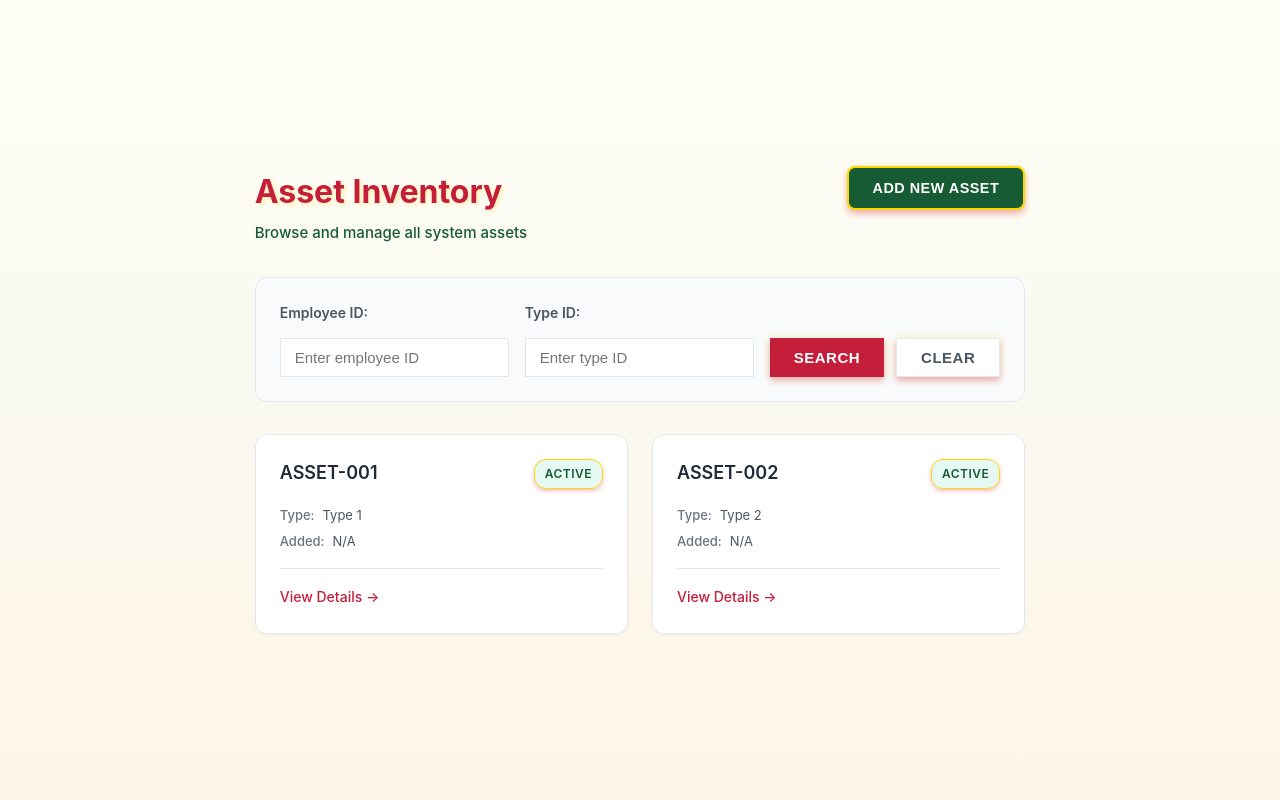
Test: AssetListView.vue › filters assets by type ID
In the field with id "typeIdFilter": (639, 358) [525,338,754,377], type "2"
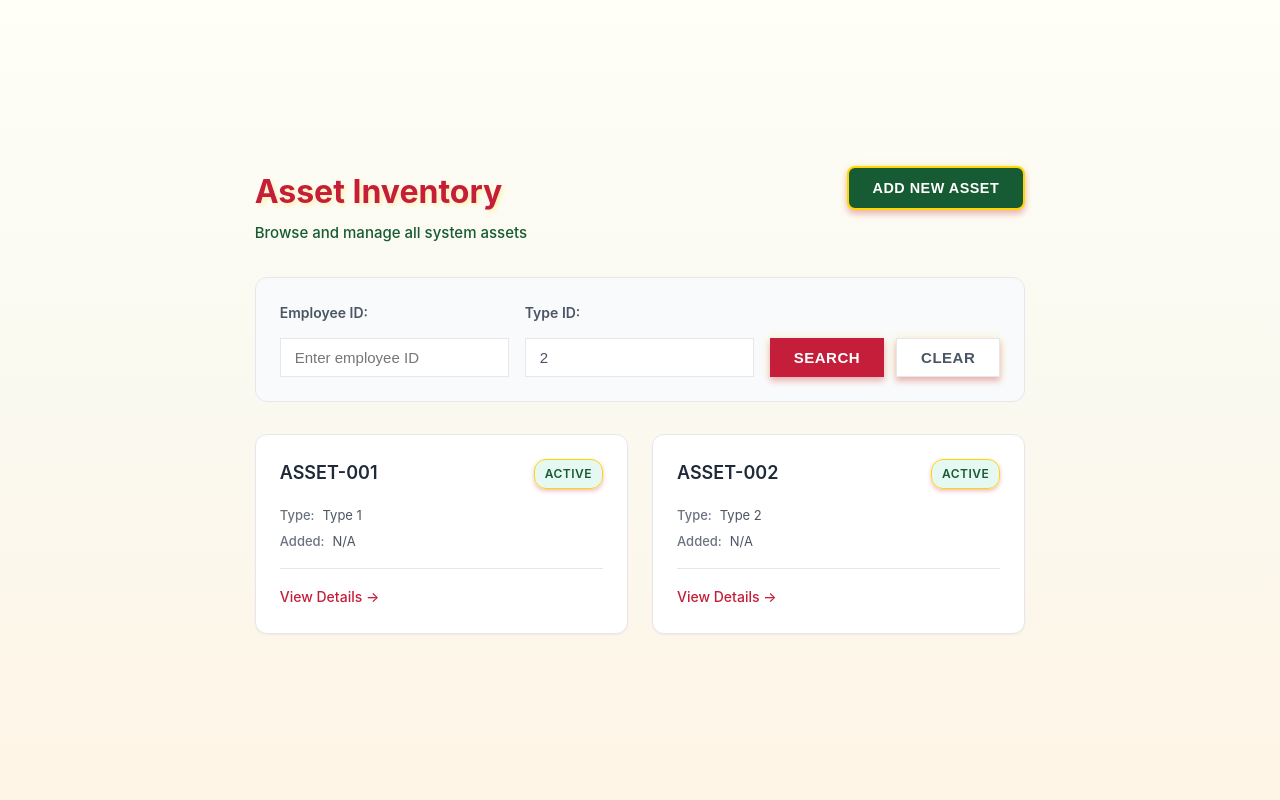
Click the button with class "btn-filter": (827, 358) [770,338,884,377]
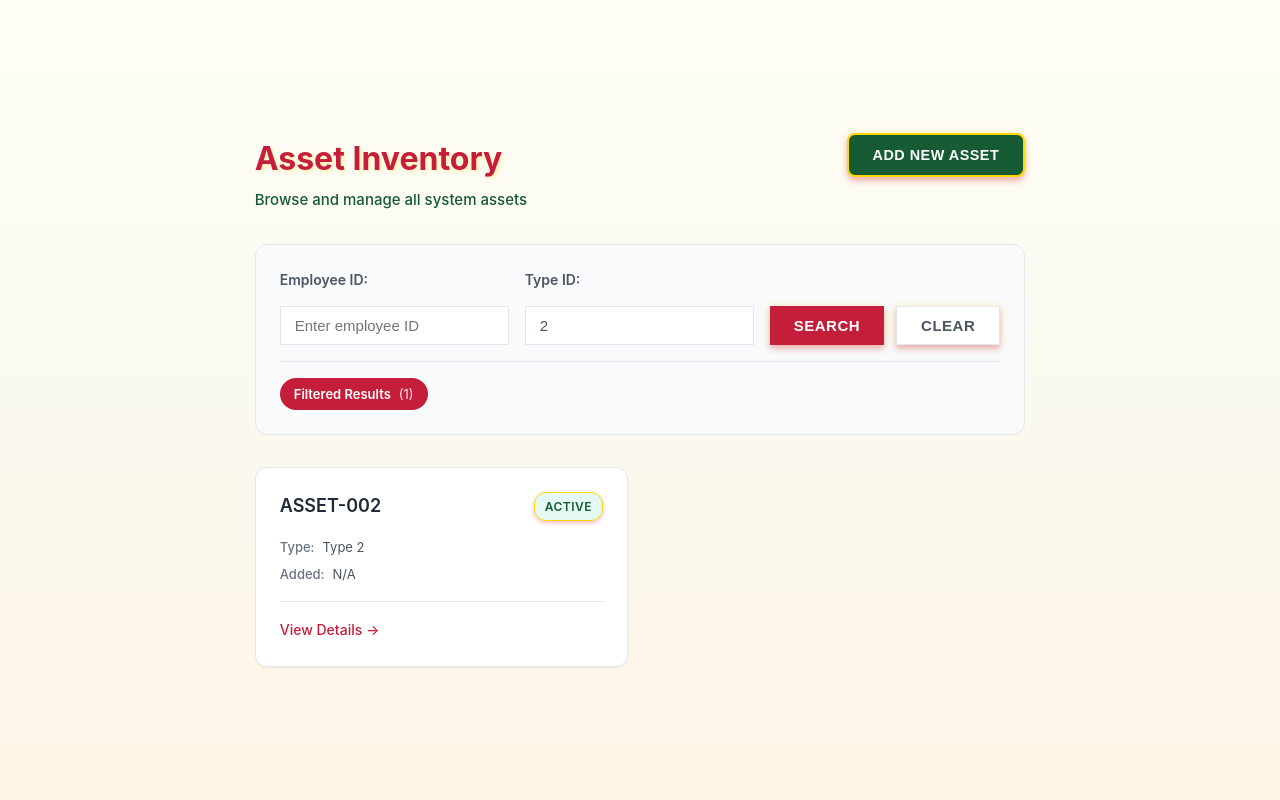
Result: the number of elements with class "asset-card" is 1 at [255,467,628,667]
